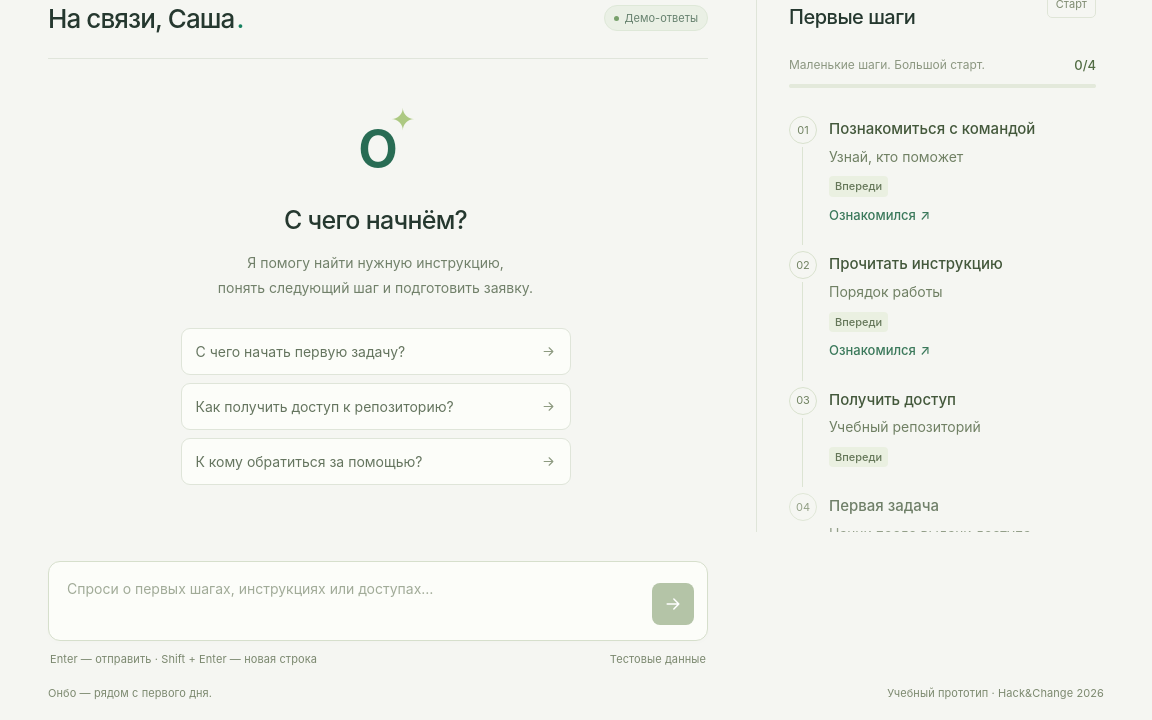
Test: Onbo workspace › preserves an unsent message when GigaChat fails and allows retry
The width and height of the screenshot is (1152, 720).
(page scrolled)
expect the heading "На связи, Саша." is shown: met, box left=48, top=2, right=243, bottom=35
In the text box named "Сообщение Онбо": [354, 601] box left=65, top=575, right=642, bottom=626, type "Где инструкция?"
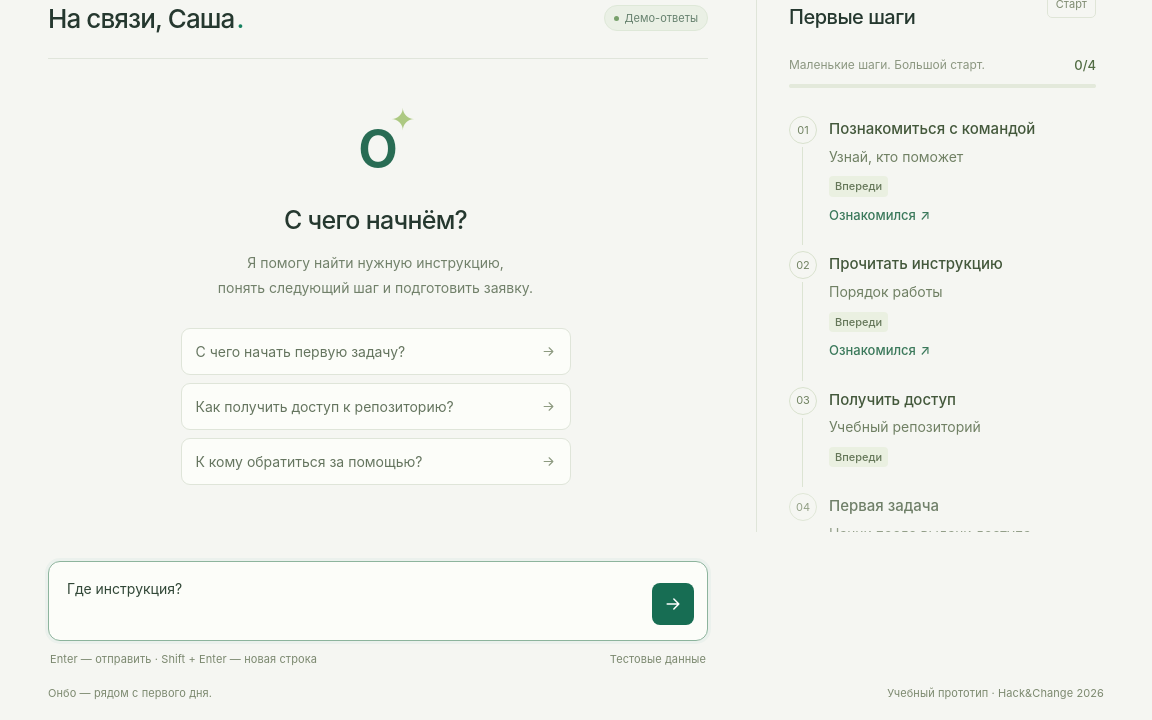
Click the button named "Отправить сообщение": [673, 604] box left=652, top=582, right=694, bottom=624
(page scrolled)
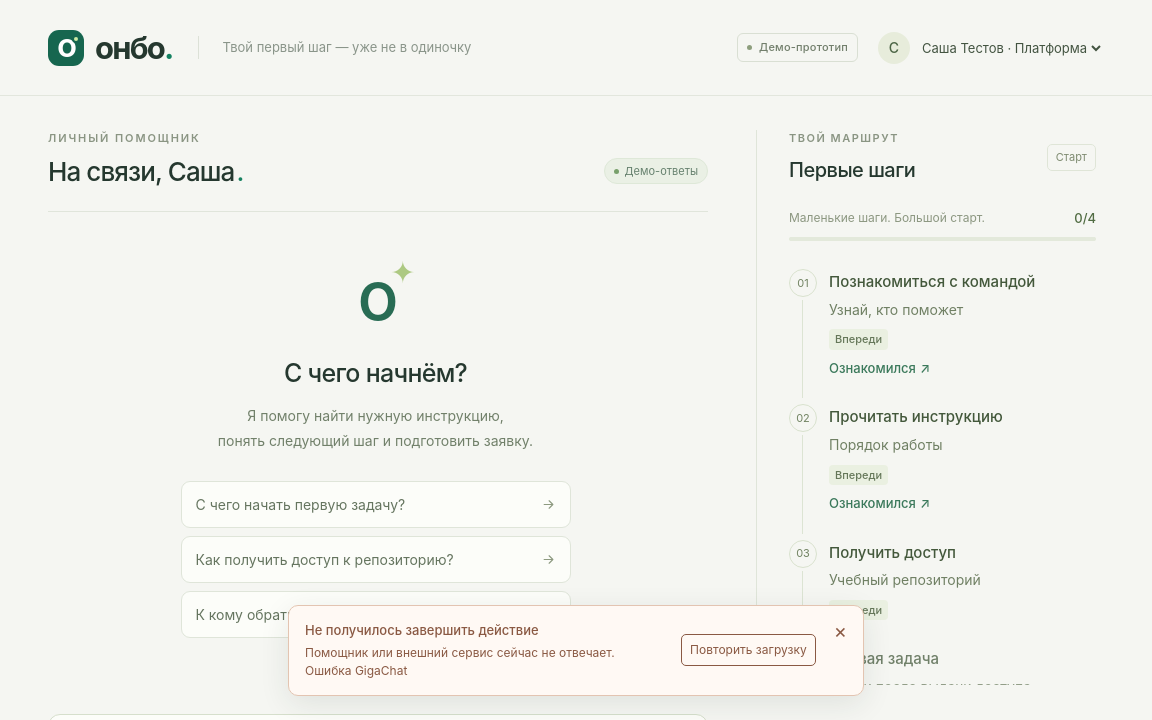
expect the text "Для первой задачи запроси доступ по тестовой инструкции." is not shown: met
expect the message shows "сейчас не отвечает": met, box left=305, top=645, right=615, bottom=678
Click the button named "Закрыть ошибку": [840, 630] box left=834, top=620, right=847, bottom=640
(page scrolled)
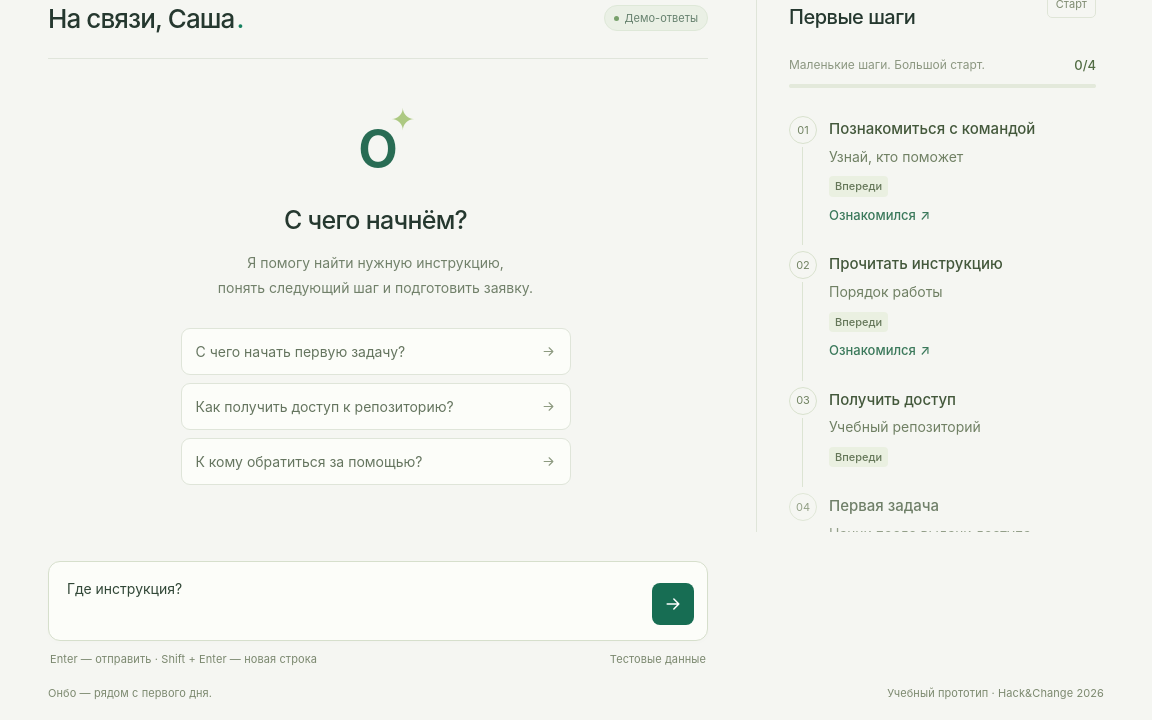
Click the button named "Отправить сообщение": [673, 604] box left=652, top=582, right=694, bottom=624
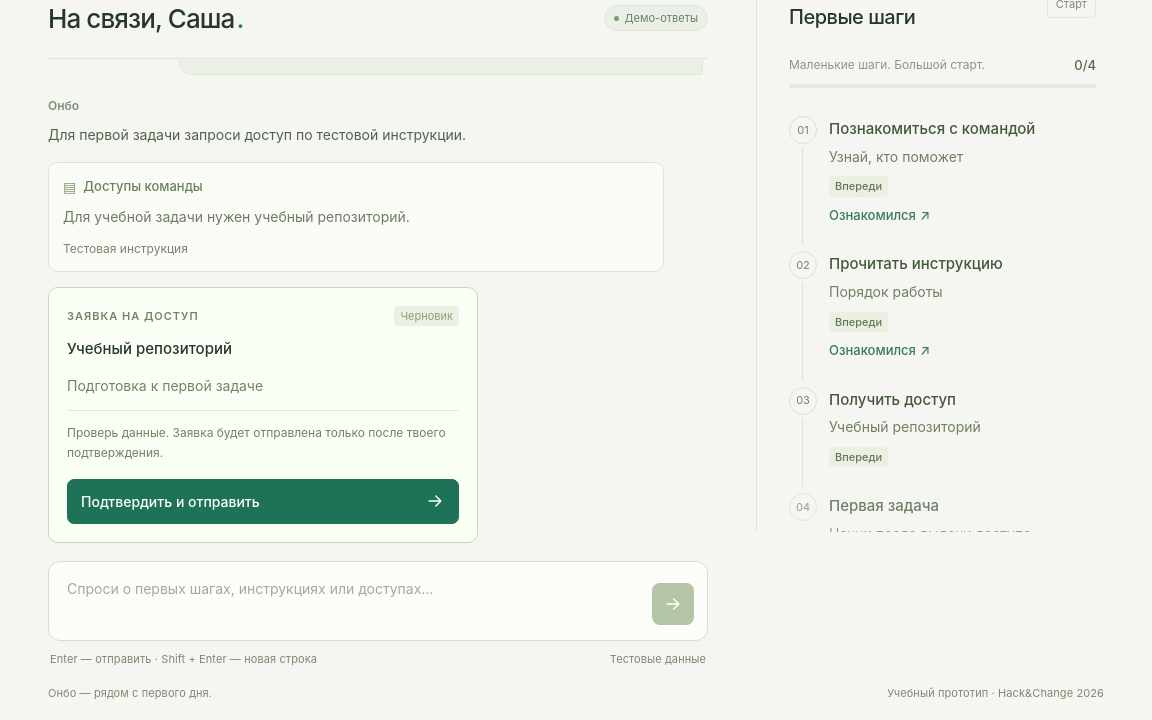
expect the text "Для первой задачи запроси доступ по тестовой инструкции." is shown: met, box left=48, top=126, right=466, bottom=143
expect the text box named "Сообщение Онбо" is empty: met, box left=65, top=575, right=642, bottom=626
